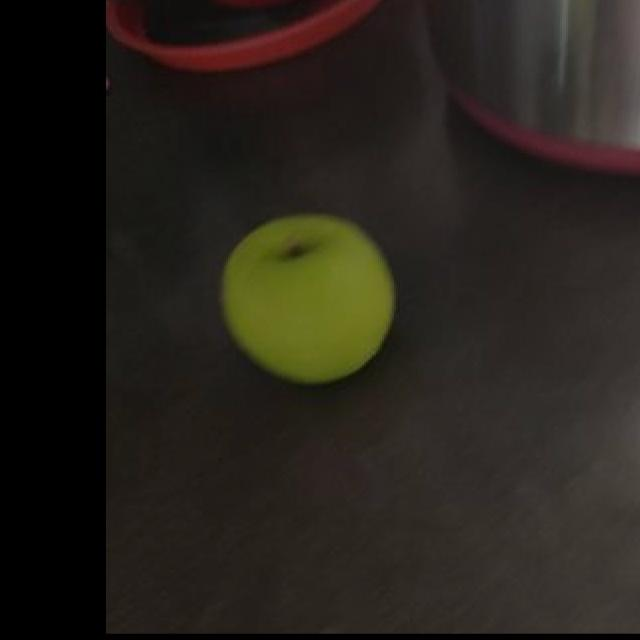green apple: (218, 211, 400, 387)
